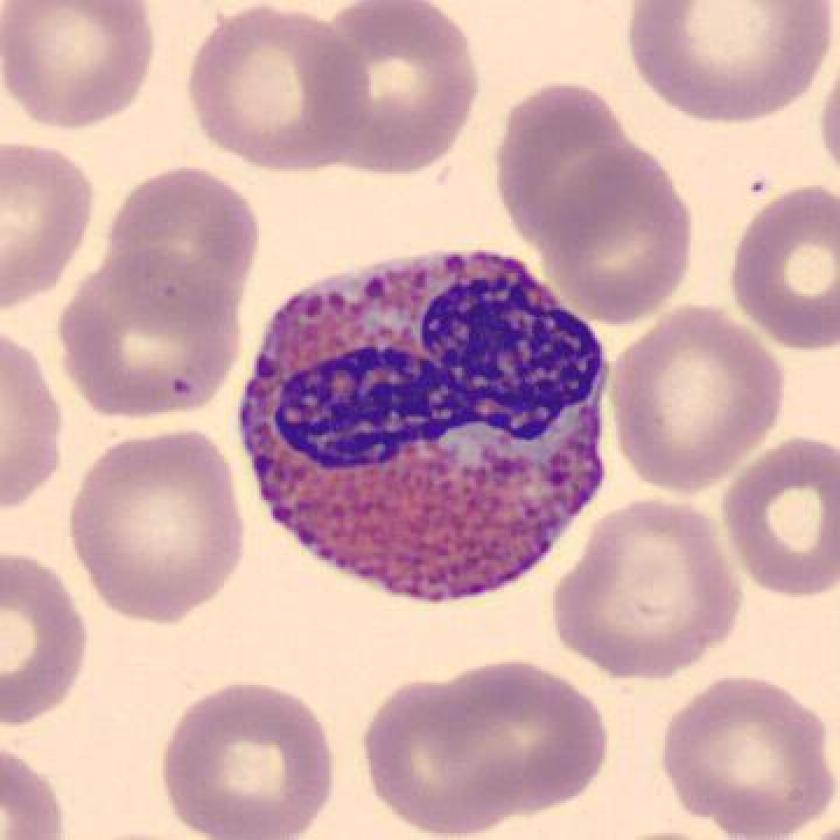eosinophil: (230, 237, 624, 612)
